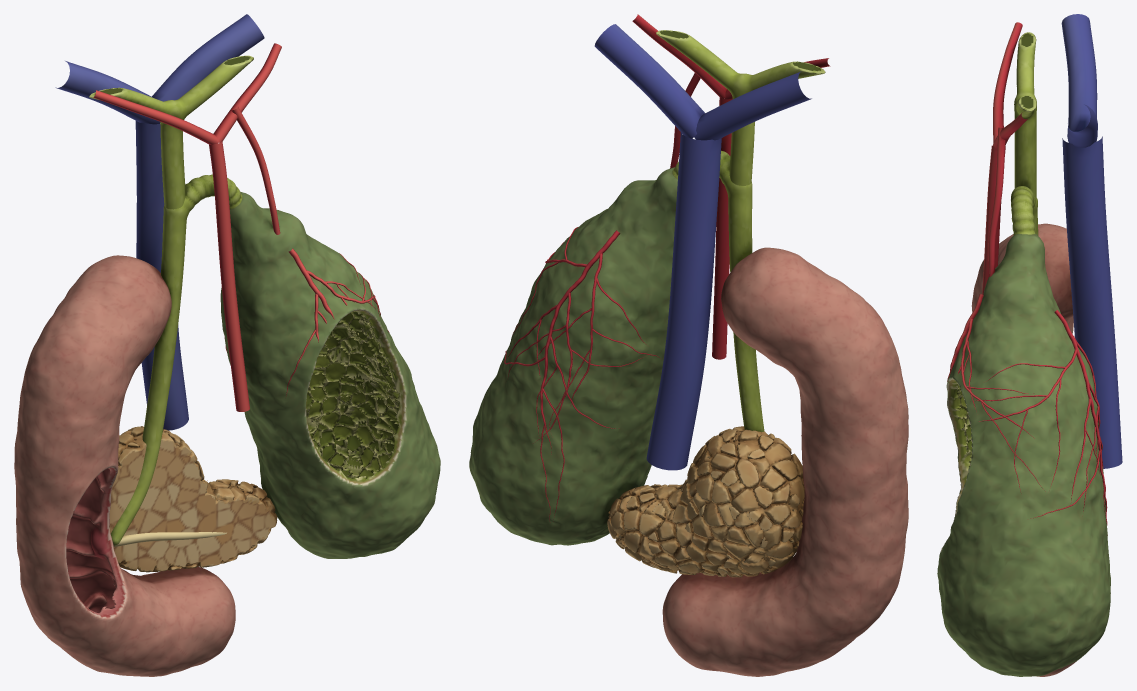
Rendered from gallbladder.4bb1d280.glb.
3 renders of one model, left to right at view 1: azimuth 30°, elevation 25°; view 2: azimuth 150°, elevation 25°; view 3: azimuth 270°, elevation 25°, orthographic. The views are drawn at different scales.
Visible parts, largest first — view 1: Duodenum, Gallbladder, Head of pancreas, Portal vein, Cystic and hepatic arteries, Common bile duct, Hepatic ducts, Pancreatic duct, Cystic duct; view 2: Duodenum, Gallbladder, Portal vein, Head of pancreas, Cystic and hepatic arteries, Hepatic ducts, Common bile duct; view 3: Gallbladder, Portal vein, Cystic and hepatic arteries, Hepatic ducts, Duodenum, Common bile duct, Cystic duct.
Part boxes in pixels (x1,y1,x2,y2): Duodenum: (14,255,235,676); Gallbladder: (220,192,440,558); Head of pancreas: (109,426,277,572); Portal vein: (55,14,264,430); Cystic and hepatic arteries: (93,43,389,411); Common bile duct: (110,174,242,545); Hepatic ducts: (89,55,253,209); Pancreatic duct: (113,532,226,546); Cystic duct: (185,174,242,209); Duodenum: (662,247,908,676); Gallbladder: (469,167,677,545); Portal vein: (594,24,811,470); Head of pancreas: (607,426,804,577); Cystic and hepatic arteries: (504,14,830,522); Hepatic ducts: (656,30,825,185); Common bile duct: (672,151,764,431); Gallbladder: (937,234,1110,676); Portal vein: (1061,14,1122,468); Cystic and hepatic arteries: (947,22,1107,535); Hepatic ducts: (1014,32,1036,197); Duodenum: (971,223,1076,676); Common bile duct: (1011,186,1038,235); Cystic duct: (1011,186,1034,235).
Bounding box in the file's own units: 2.79 × 4.03 × 1.11.
